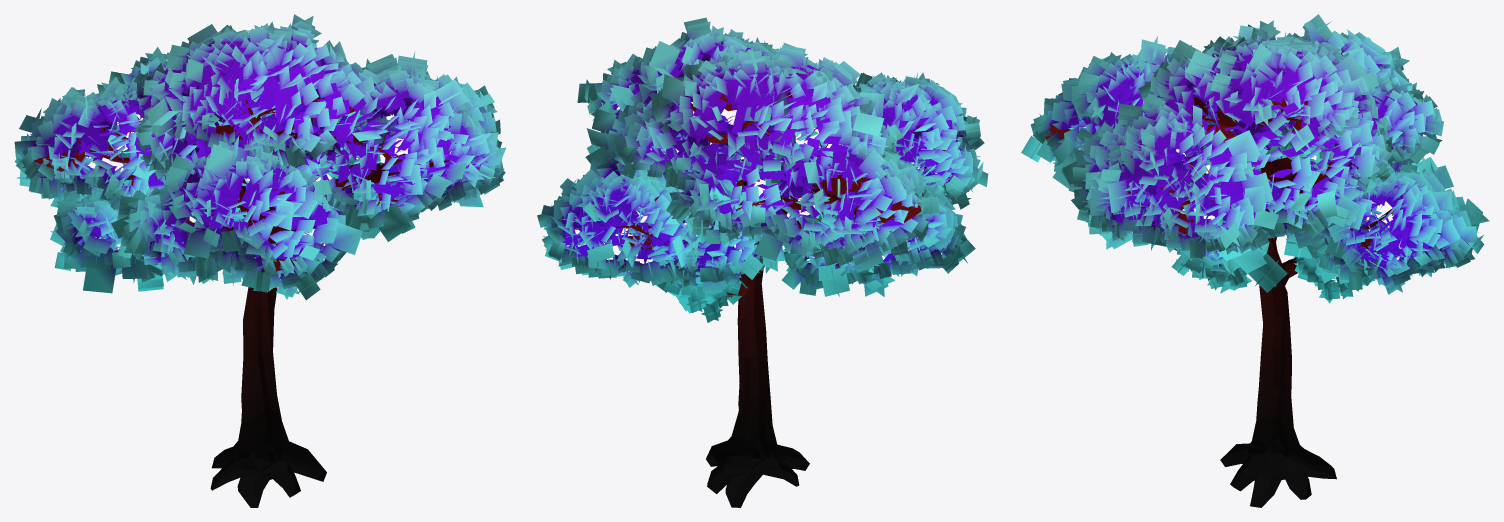
File: SM_Env_Tree_Forest_01.gltf
3 views of the same model, side by side, from view 1: azimuth 30°, elevation 25°; view 2: azimuth 150°, elevation 25°; view 3: azimuth 270°, elevation 25° (orthographic). The views are drawn at different scales.
Visible parts, largest first — view 1: SM_Env_Tree_Forest_01_LOD0, SM_Env_Tree_Forest_01_Branches_LOD0; view 2: SM_Env_Tree_Forest_01_LOD0, SM_Env_Tree_Forest_01_Branches_LOD0; view 3: SM_Env_Tree_Forest_01_LOD0, SM_Env_Tree_Forest_01_Branches_LOD0.
Boxes of the visible parts, x1,y1,x2,y2 form: SM_Env_Tree_Forest_01_LOD0: (14, 14, 505, 507); SM_Env_Tree_Forest_01_Branches_LOD0: (34, 98, 450, 272); SM_Env_Tree_Forest_01_LOD0: (537, 17, 988, 507); SM_Env_Tree_Forest_01_Branches_LOD0: (603, 92, 945, 295); SM_Env_Tree_Forest_01_LOD0: (1021, 14, 1489, 507); SM_Env_Tree_Forest_01_Branches_LOD0: (1045, 88, 1392, 247).
Size of the model in its own units: 17.07 by 17.95 by 16.95.
